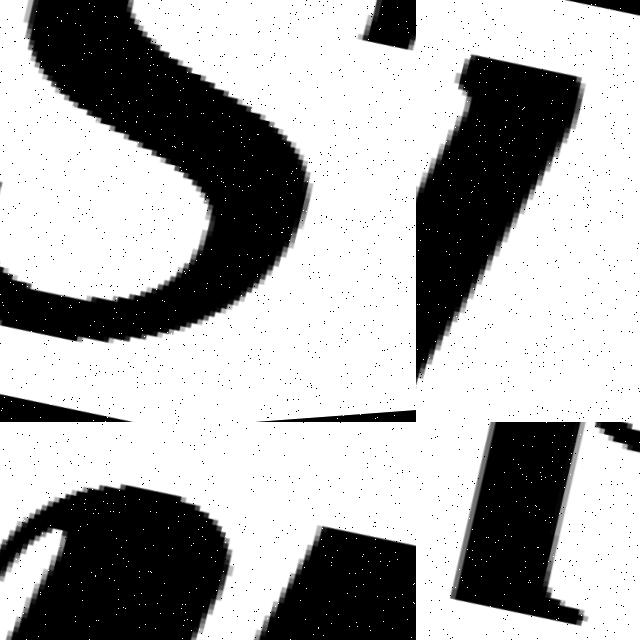D: (416, 422, 640, 640)
N: (0, 435, 416, 640)
S: (0, 0, 416, 422)
T: (416, 5, 616, 422)
